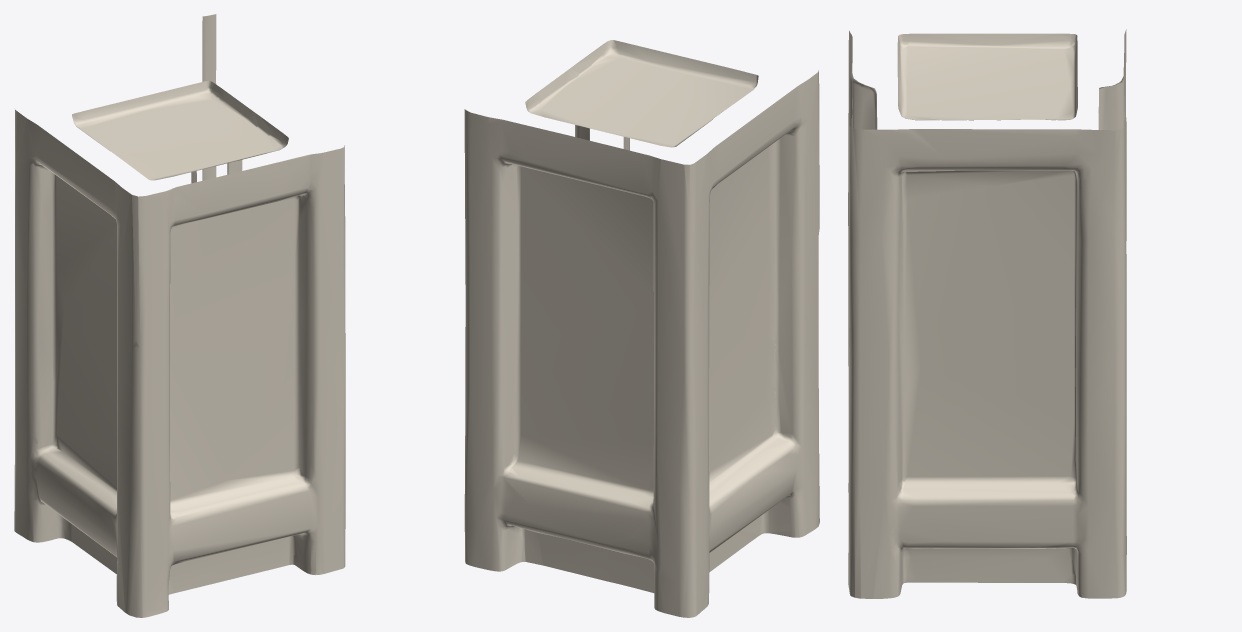
The model's file is spa_lantern.glb.
3 renders of one model, left to right at view 1: azimuth 30°, elevation 25°; view 2: azimuth 150°, elevation 25°; view 3: azimuth 270°, elevation 25°, orthographic. The views are drawn at different scales.
Bounding box in the file's own units: 0.0921 × 0.148 × 0.1087.
